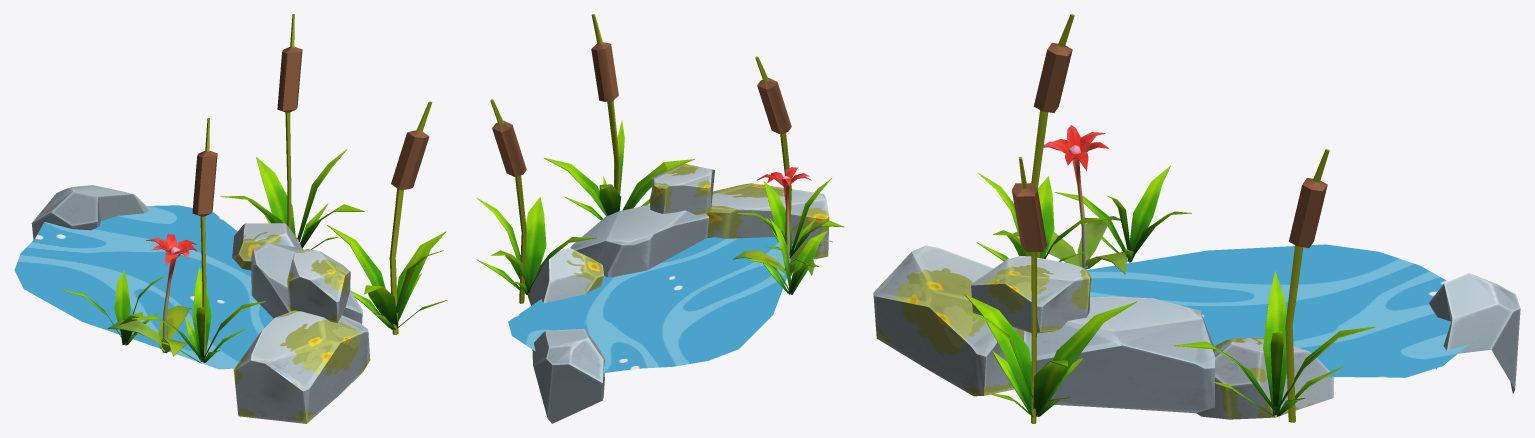
File: Lake_1.fbx
3 renders of one model, left to right at view 1: azimuth 30°, elevation 25°; view 2: azimuth 150°, elevation 25°; view 3: azimuth 270°, elevation 25°, orthographic. The views are drawn at different scales.
Parts seen in each view (by area): view 1: Lake, Stone_2, Grass_n_Flower, Stone_1; view 2: Lake, Stone_1, Stone_2, Grass_n_Flower; view 3: Lake, Stone_2, Stone_1, Grass_n_Flower.
Boxes of the visible parts, x1=… form: Lake: x1=14, y1=14, x2=432, y2=369; Stone_2: x1=232, y1=223, x2=370, y2=423; Grass_n_Flower: x1=60, y1=149, x2=447, y2=363; Stone_1: x1=31, y1=185, x2=362, y2=323; Lake: x1=490, y1=14, x2=795, y2=372; Stone_1: x1=532, y1=204, x2=708, y2=423; Stone_2: x1=527, y1=163, x2=829, y2=305; Grass_n_Flower: x1=477, y1=120, x2=843, y2=294; Lake: x1=1012, y1=14, x2=1469, y2=423; Stone_2: x1=873, y1=245, x2=1334, y2=419; Stone_1: x1=1024, y1=273, x2=1520, y2=413; Grass_n_Flower: x1=964, y1=125, x2=1375, y2=416.
Size of the model in its own units: 3.48 by 2.75 by 4.58.
